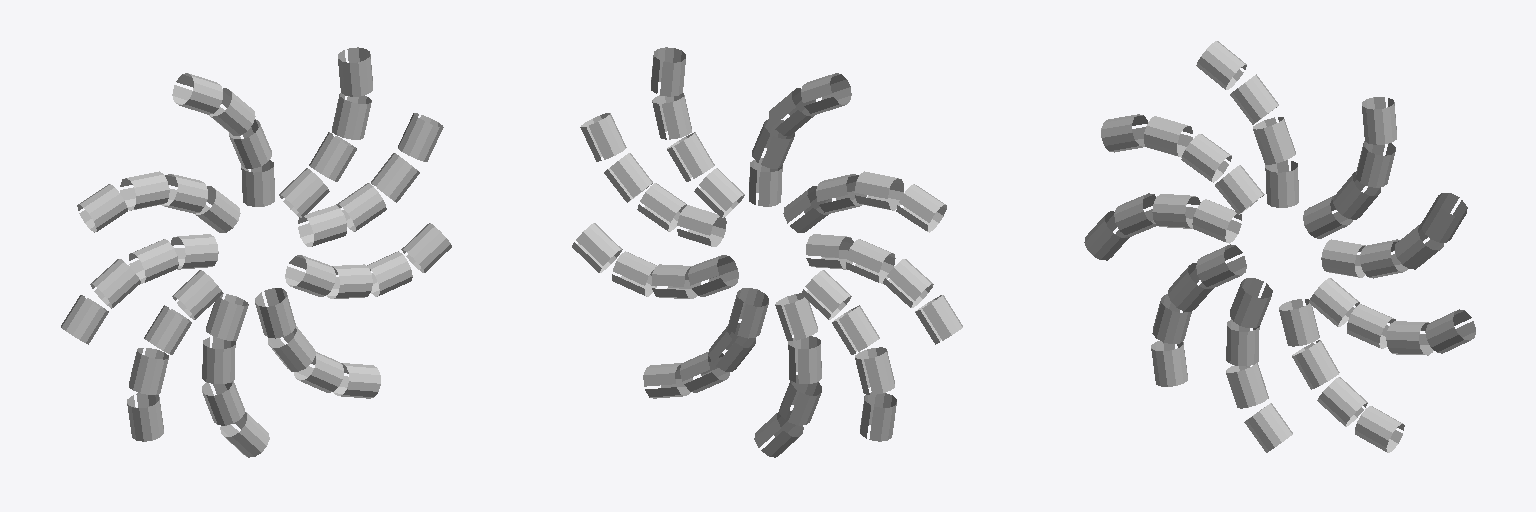
Rendered from tent chell.obj.
3 renders of one model, left to right at view 1: azimuth 30°, elevation 25°; view 2: azimuth 150°, elevation 25°; view 3: azimuth 330°, elevation 25°, orthographic.
Visible parts, largest first — view 1: Tent_shell_Cylinder.001; view 2: Tent_shell_Cylinder.001; view 3: Tent_shell_Cylinder.001.
Part boxes in pixels (bbox=[...]): Tent_shell_Cylinder.001: bbox=[61, 47, 451, 457]; Tent_shell_Cylinder.001: bbox=[572, 47, 962, 457]; Tent_shell_Cylinder.001: bbox=[1084, 41, 1475, 452].
Size of the model in its own units: 10.2 by 9.99 by 0.747.